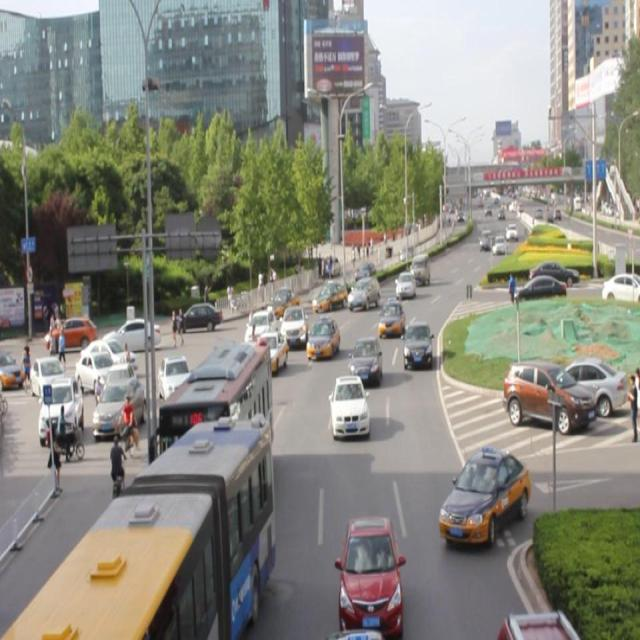car: (436, 445, 529, 541), (336, 513, 401, 633), (328, 373, 370, 436), (500, 608, 575, 640), (211, 345, 245, 395), (277, 303, 312, 351), (248, 334, 288, 376), (305, 315, 340, 358), (348, 336, 380, 382), (311, 279, 348, 315), (403, 321, 431, 368), (245, 308, 277, 349), (347, 275, 380, 307), (378, 298, 403, 334), (394, 269, 416, 298)
truck: (408, 252, 429, 284)
van: (1, 416, 273, 640), (163, 347, 275, 513)
